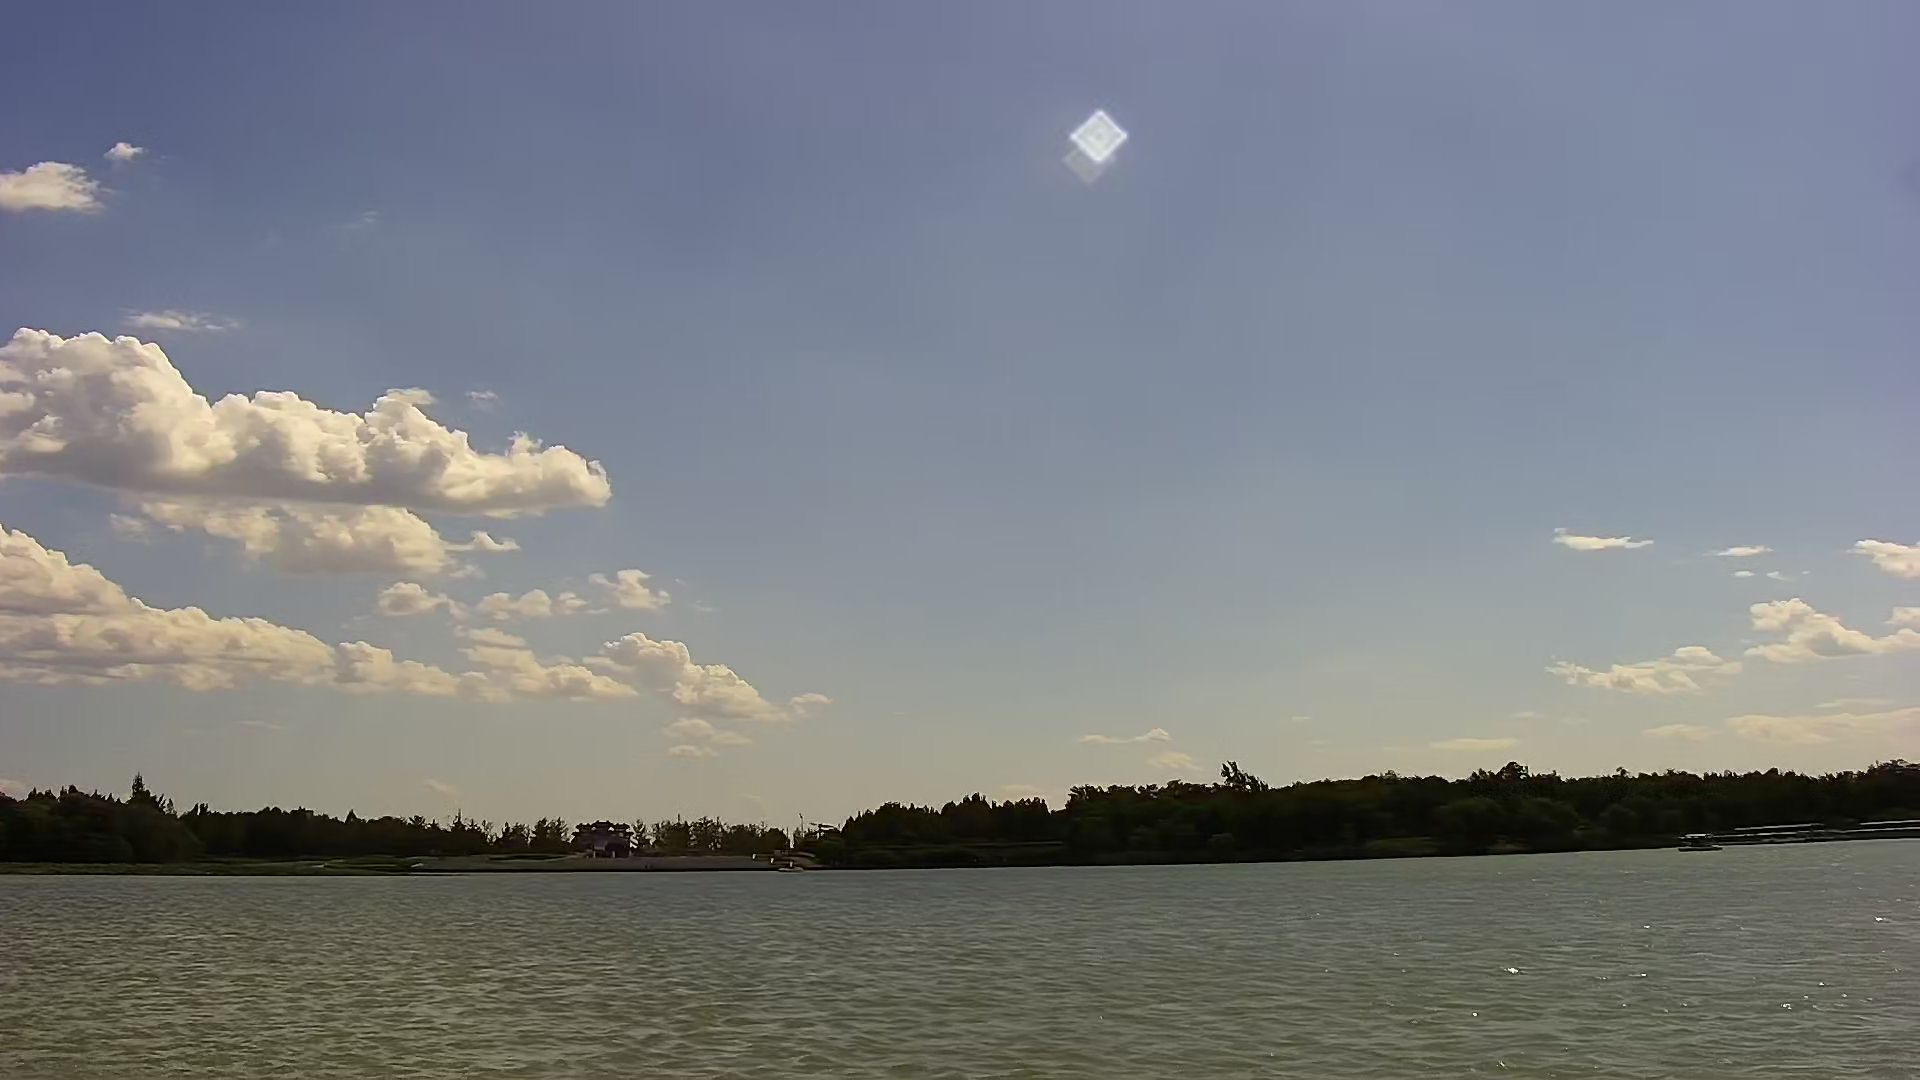boat: (1673, 829, 1716, 851)
harbor: (1725, 818, 1919, 843)
